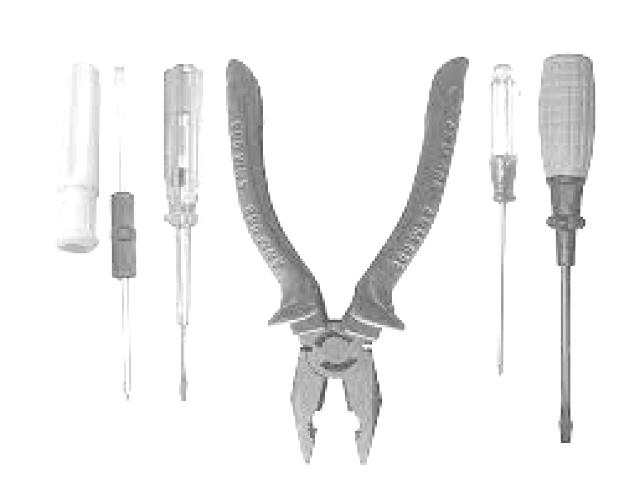Pliers: (228, 59, 469, 464)
Screwdriver: (539, 55, 595, 443), (164, 65, 204, 402), (489, 65, 520, 377), (55, 63, 100, 254), (111, 68, 136, 401)
